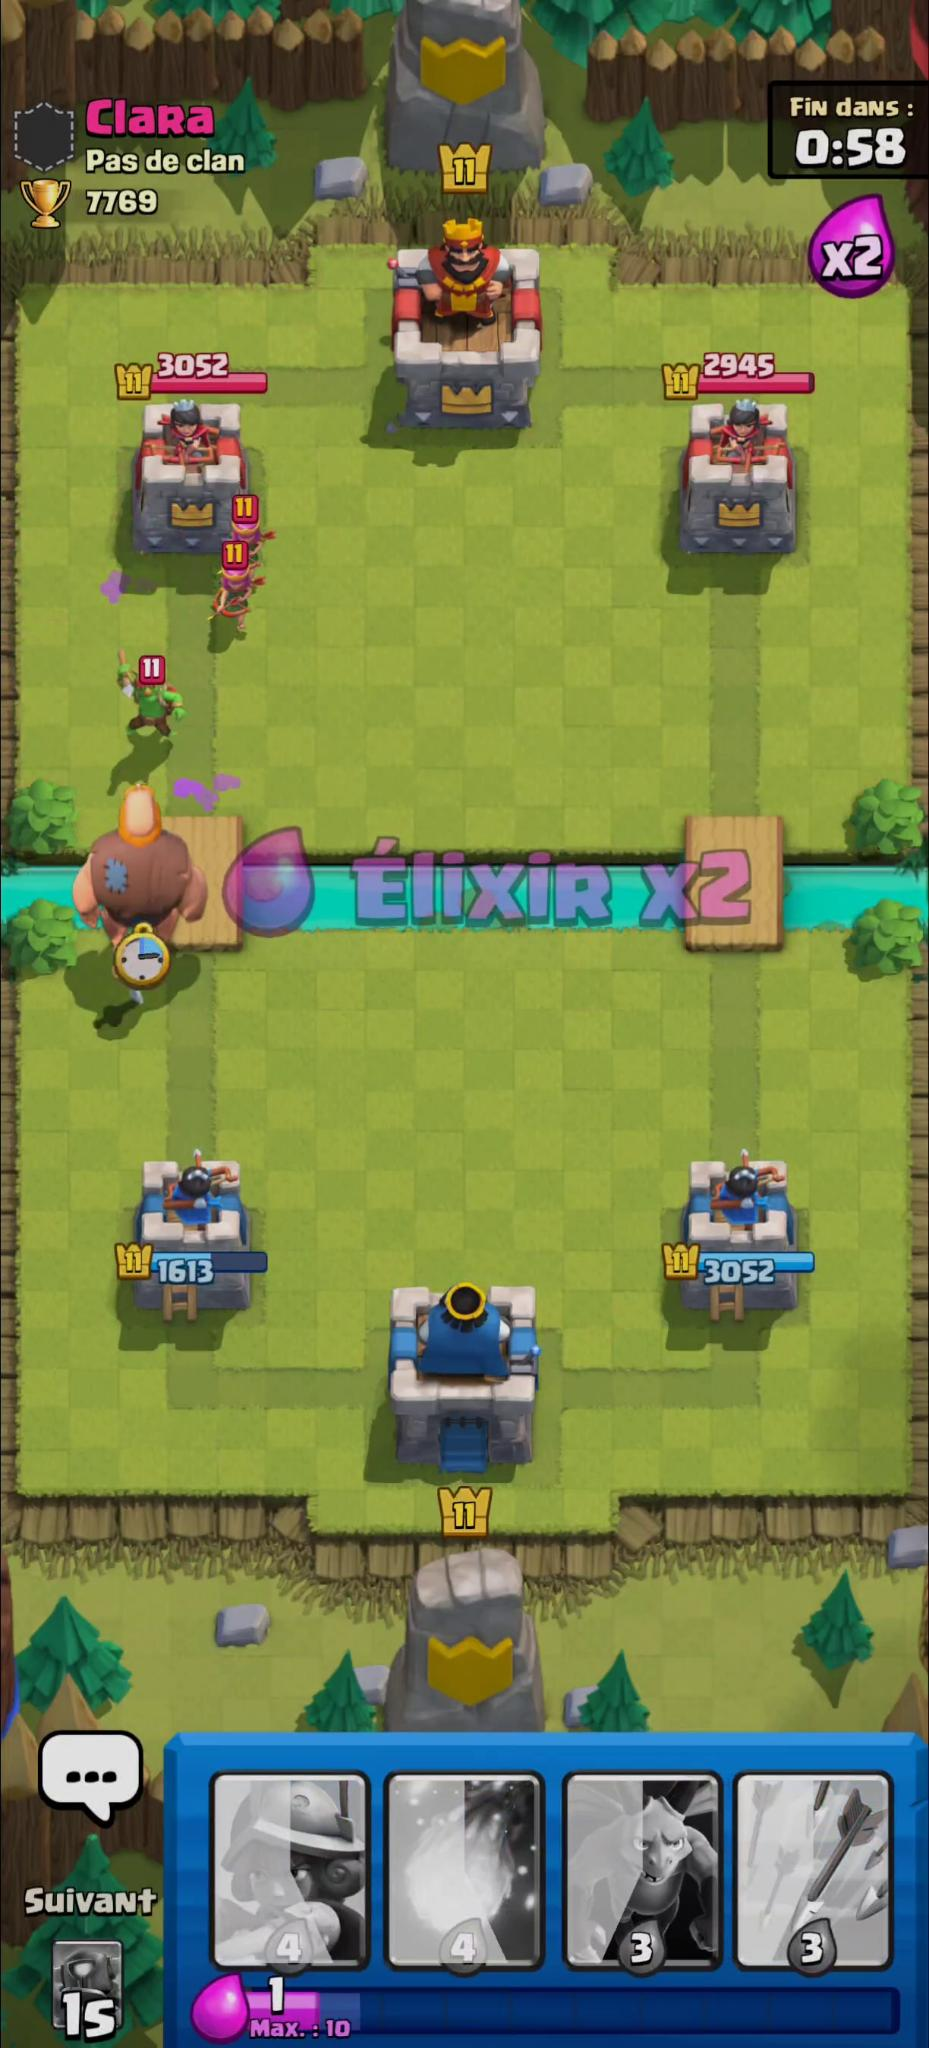archere: (209, 556, 261, 635), (231, 515, 276, 566)
geant: (72, 781, 212, 957)
gobelin_lances: (114, 649, 191, 744)
